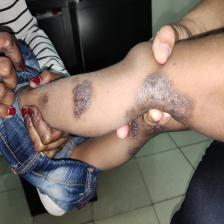DA: (136, 72, 193, 110), (69, 76, 98, 122), (37, 93, 52, 110)
